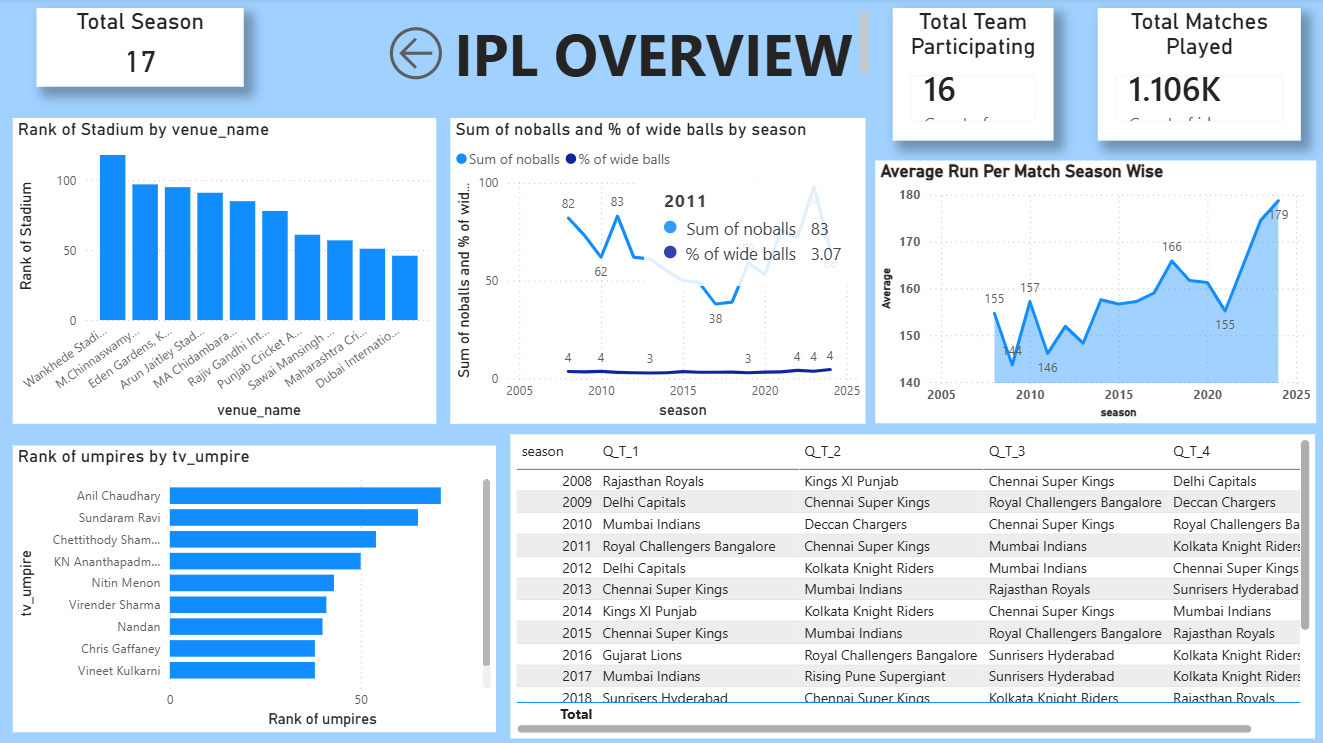

This screenshot's page, from the dashboard's own definition file:
{"tool":"powerbi","page":{"name":"IPL Overview","canvas":[1280,720],"ordinal":1},"visuals":[{"type":"textbox","box":[434.3,9.7,410.2,76],"z":0},{"type":"actionButton","box":[370.1,20.9,64,65.4],"z":1000},{"type":"card","title":"Total Season","fields":{"Values":["all_season_summary.season"]},"box":[36.2,9.7,200.3,76],"z":2000},{"type":"cardVisual","title":"Total Team Participating","fields":{"Data":["points_table.name"]},"box":[863.1,9.6,155.1,127.6],"z":3000},{"type":"cardVisual","title":"Total Matches Played","fields":{"Data":["all_season_summary.id"]},"box":[1060.7,9.6,196.2,127.6],"z":4000},{"type":"lineChart","title":"Average Run Per Match Season Wise","fields":{"Category":["all_season_summary.season"],"Y":["all_season_summary.Average"]},"box":[845.3,156.4,425.4,253.9],"z":5000},{"type":"columnChart","fields":{"Category":["all_season_summary.venue_name"],"Y":["all_season_summary.Rank of Stadium"]},"box":[13.7,115.3,408.9,295],"z":6000},{"type":"barChart","fields":{"Category":["all_season_summary.tv_umpire"],"Y":["all_season_summary.Rank of umpires"]},"box":[13.7,432.2,466.6,277.2],"z":7000},{"type":"lineChart","fields":{"Category":["all_season_bowling_card.season"],"Y":["all_season_bowling_card.noballs","all_season_bowling_card.% of wide balls"]},"box":[435,115.3,400.7,295],"z":8000},{"type":"tableEx","fields":{"Values":["points_table.season","points_table.Measure","points_table.Q_T_2","points_table.Q_T_3","points_table.Q_T_4"]},"box":[494,421.3,776.7,293.7],"z":9000}]}

Visuals, with their boxes in screenshot pixels (x1, y1, x2, y2), scaled from the page's 1280x720 canvas onto the 1323x743 screenshot:
textbox: bbox(449, 10, 873, 88)
actionButton: bbox(383, 22, 449, 89)
"Total Season" card: bbox(37, 10, 244, 88)
"Total Team Participating" cardVisual: bbox(892, 10, 1052, 142)
"Total Matches Played" cardVisual: bbox(1096, 10, 1299, 142)
"Average Run Per Match Season Wise" lineChart: bbox(874, 161, 1313, 423)
columnChart - all_season_summary.venue_name x all_season_summary.Rank of Stadium: bbox(14, 119, 437, 423)
barChart - all_season_summary.tv_umpire x all_season_summary.Rank of umpires: bbox(14, 446, 496, 732)
lineChart - all_season_bowling_card.season x all_season_bowling_card.noballs: bbox(450, 119, 864, 423)
tableEx - points_table.season x points_table.Measure: bbox(511, 435, 1313, 738)
